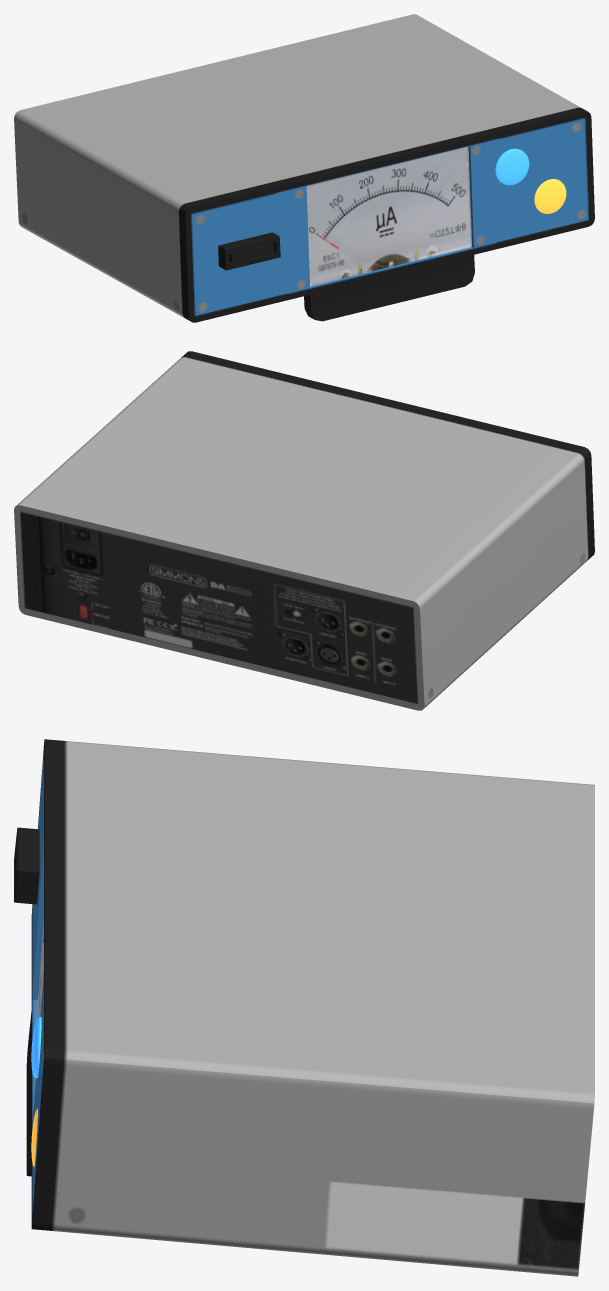
File: DeviceA1.fbx
3 renders of one model, top to bottom at view 1: azimuth 30°, elevation 25°; view 2: azimuth 150°, elevation 25°; view 3: azimuth 270°, elevation 25°, orthographic. The views are drawn at different scales.
Parts seen in each view (by area): view 1: DeviceA1; view 2: DeviceA1; view 3: DeviceA1.
Part boxes in pixels (x1,y1,x2,y2): DeviceA1: (14, 14, 594, 322); DeviceA1: (14, 351, 594, 710); DeviceA1: (14, 739, 594, 1276).
Size of the model in its own units: 33.19 by 11.09 by 25.65.
